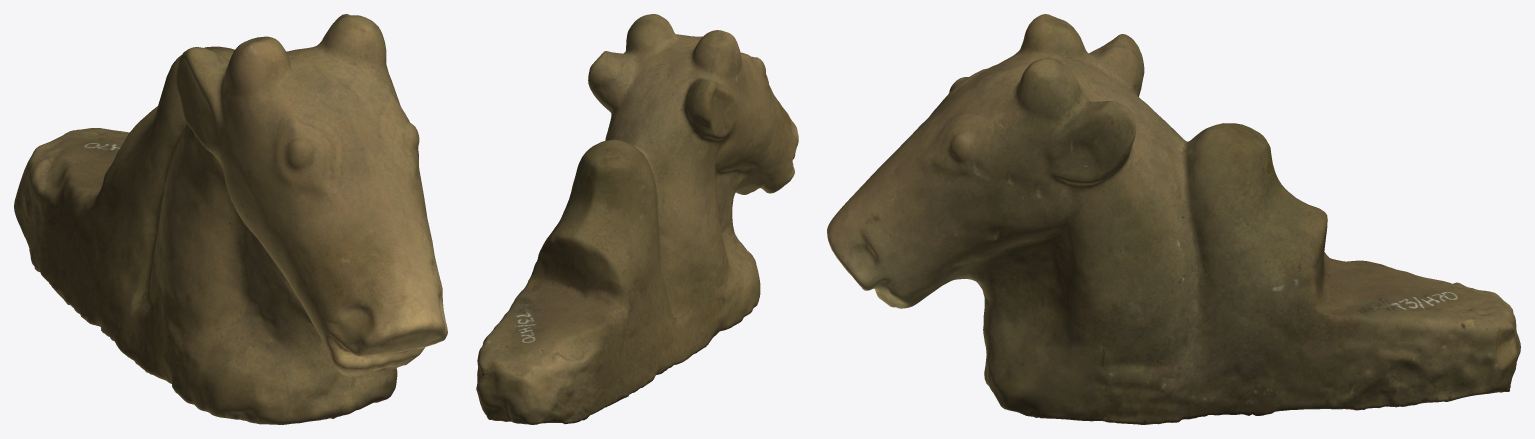
File: Museum_warehousetuongbothan_final.glb
3 views of the same model, side by side, from view 1: azimuth 30°, elevation 25°; view 2: azimuth 150°, elevation 25°; view 3: azimuth 270°, elevation 25° (orthographic). The views are drawn at different scales.
Size of the model in its own units: 0.2346 by 0.4459 by 0.7991.
1 material, 1 textured.
